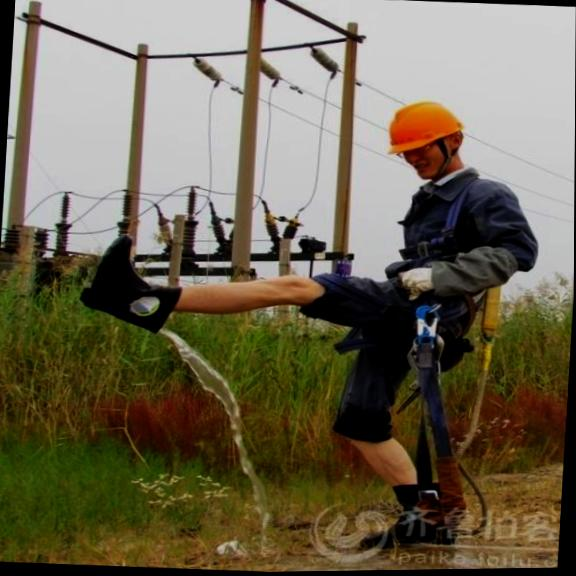no_safety_vest: (389, 174, 518, 287)
